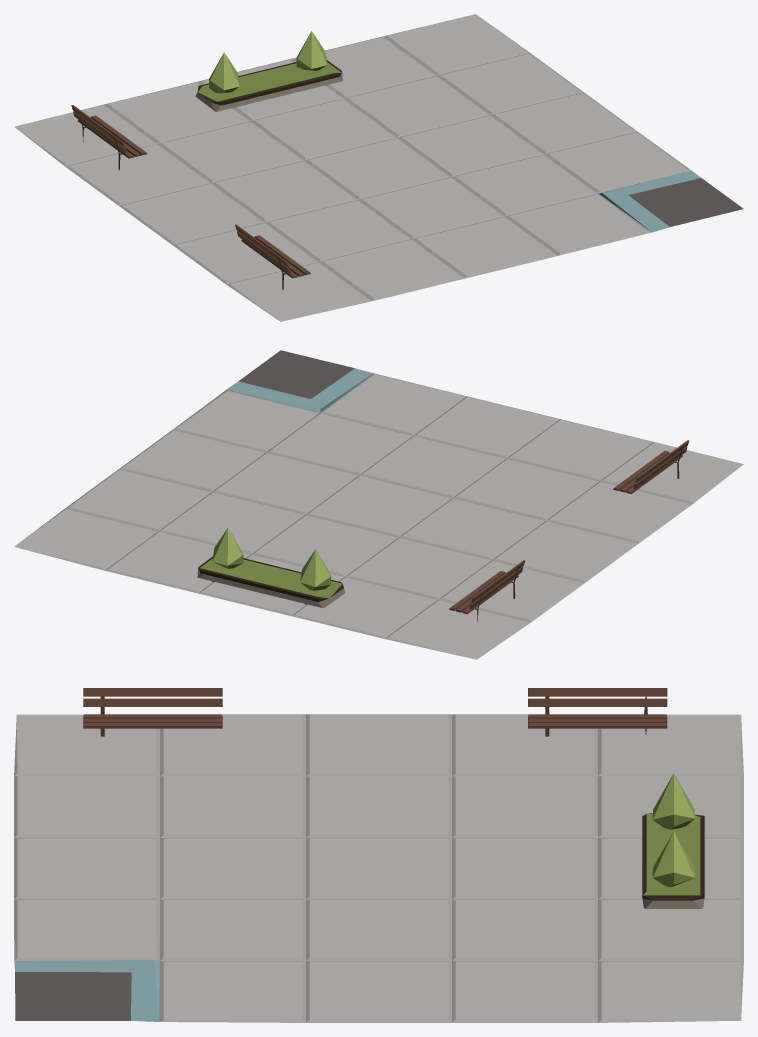
File: QmYh9BVjtGnjkxsXDNFthm2Wr37mcARCcwhY1SniqY6Job_lod2.fbx
3 renders of one model, top to bottom at view 1: azimuth 30°, elevation 25°; view 2: azimuth 150°, elevation 25°; view 3: azimuth 270°, elevation 25°, orthographic. The views are drawn at different scales.
Visible parts, largest first — view 1: Entity_512; view 2: Entity_512; view 3: Entity_512.
Part boxes in pixels (x1,y1,x2,y2): Entity_512: [14, 14, 743, 321]; Entity_512: [14, 350, 743, 659]; Entity_512: [14, 688, 743, 1022].
Size of the model in its own units: 16000 by 1591 by 16000.
1 material, 1 textured.
